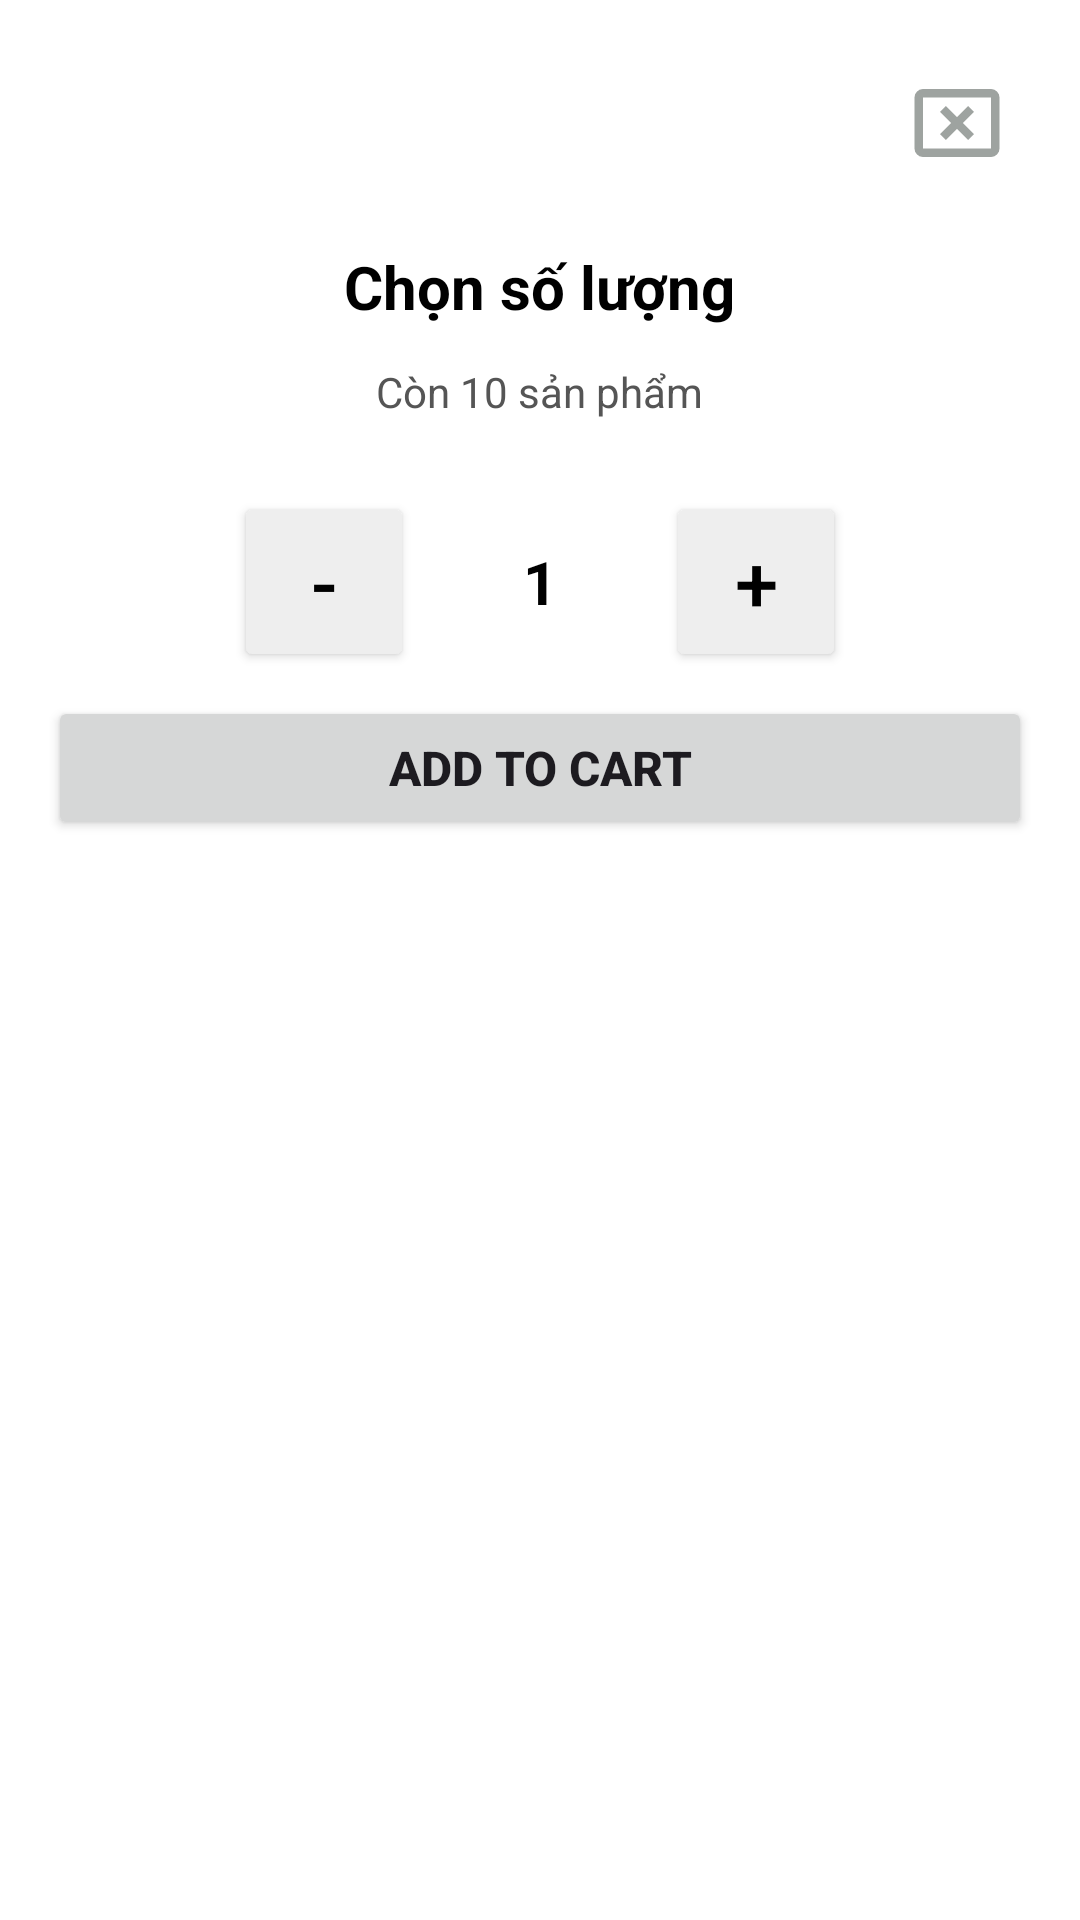

Where to tap for icons on this 1080x1920 app screen, as point (x, y):
cancel presentation: point (957, 123)
